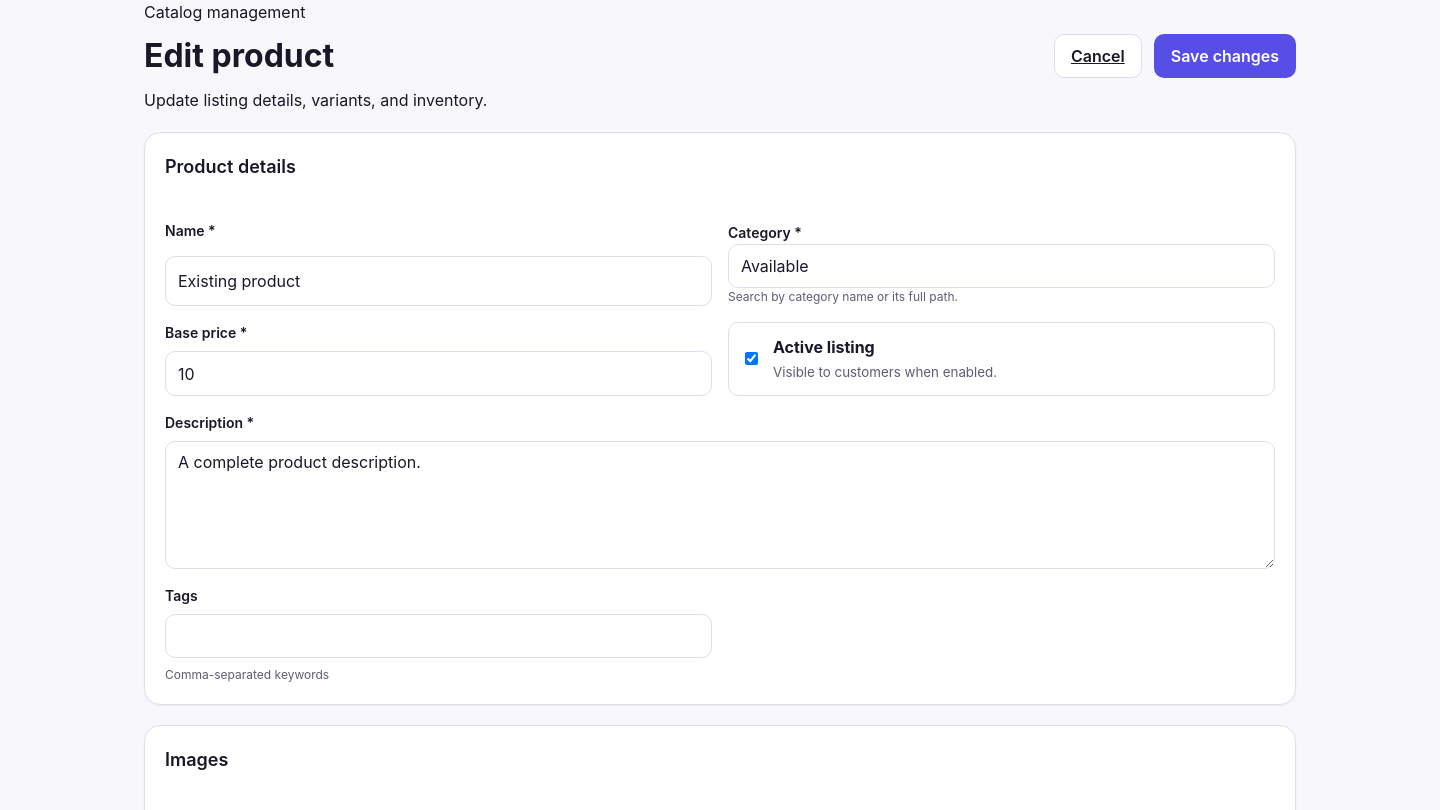
Scenario: product variant inventory editor › prevents duplicate saves before the pending state renders
The width and height of the screenshot is (1440, 810).
Replace the text in the field labelled "Name *" with "Updated product" at (438, 281), box [165,256,712,306]
(page scrolled)
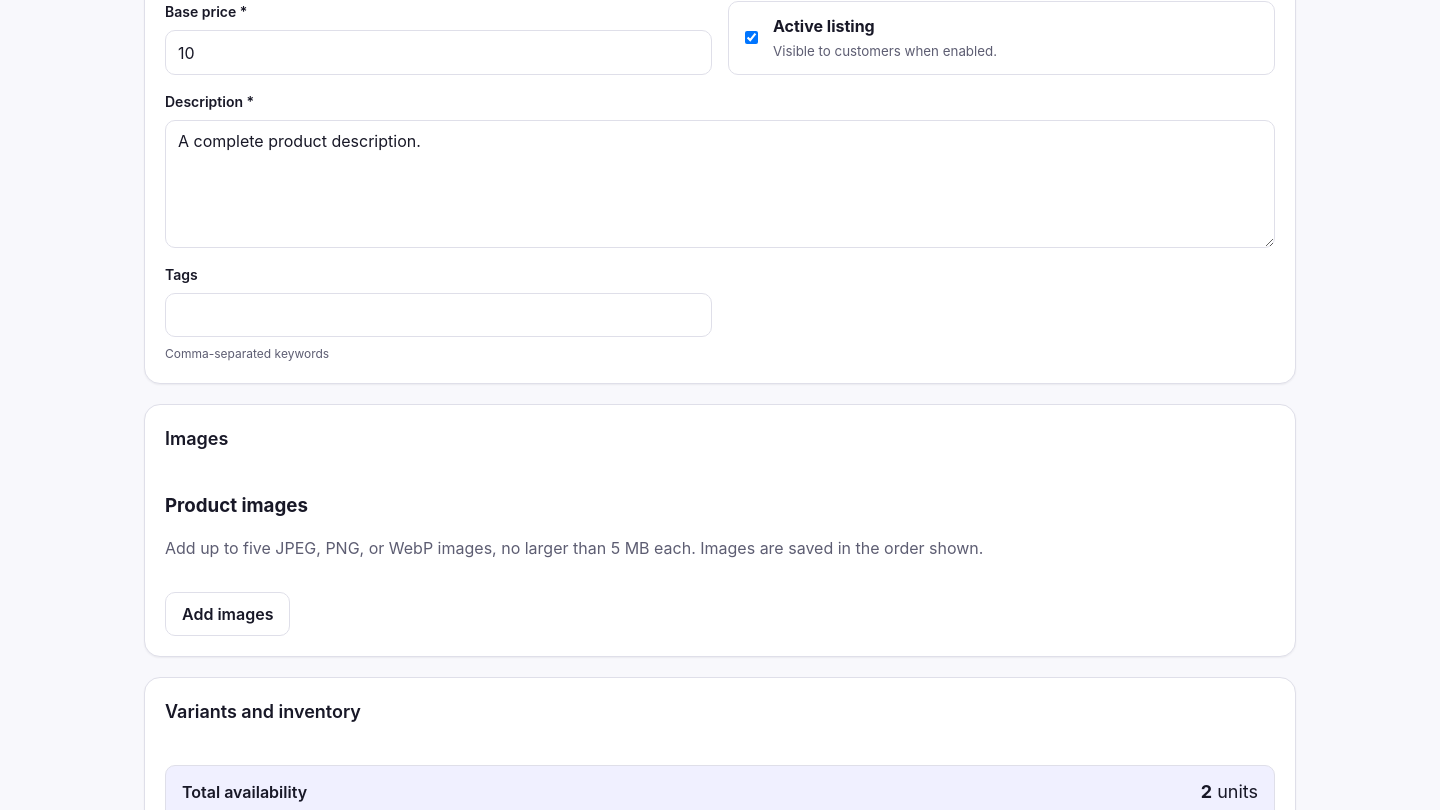
Submit the form named "Save changes"
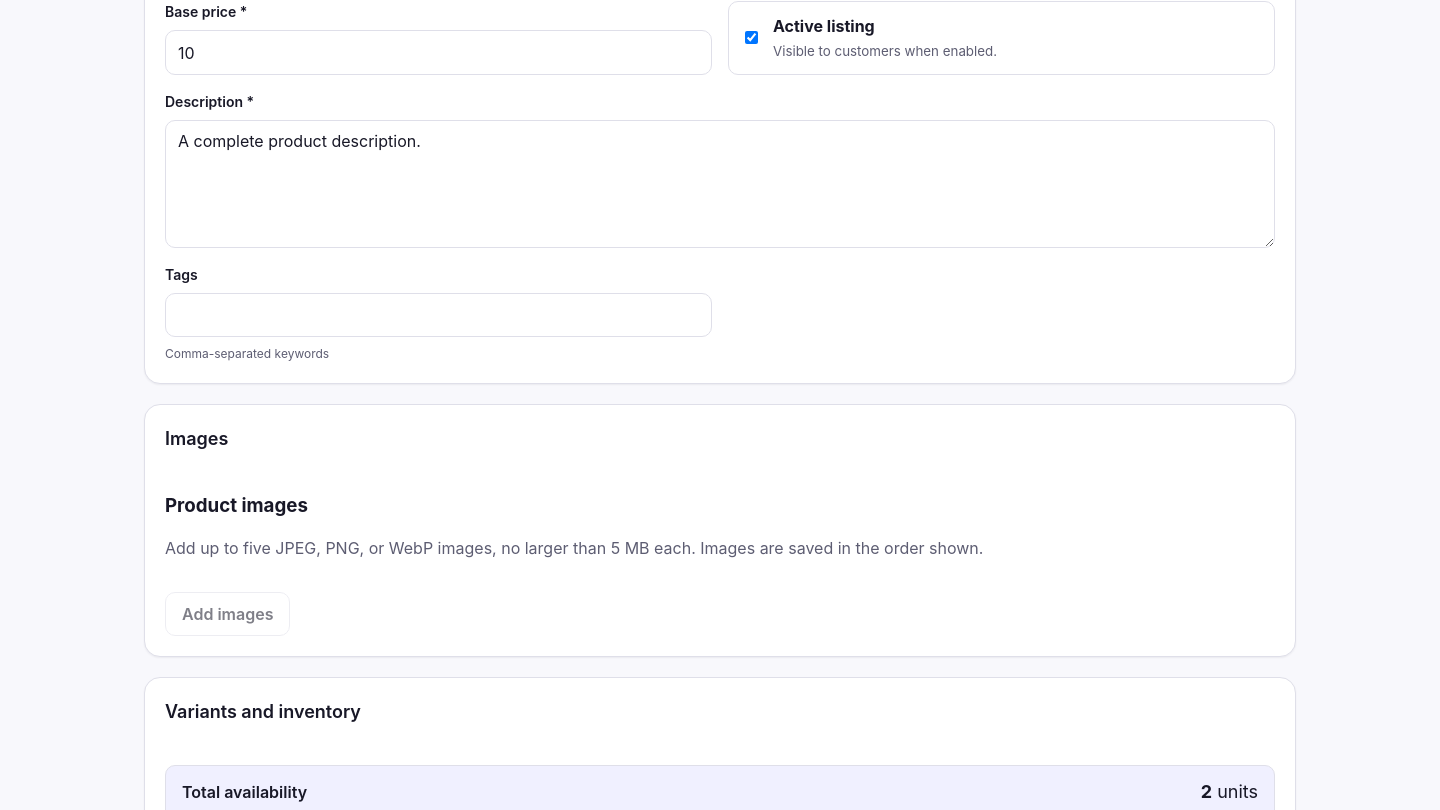
Submit the form named "Save changes"
(page scrolled)
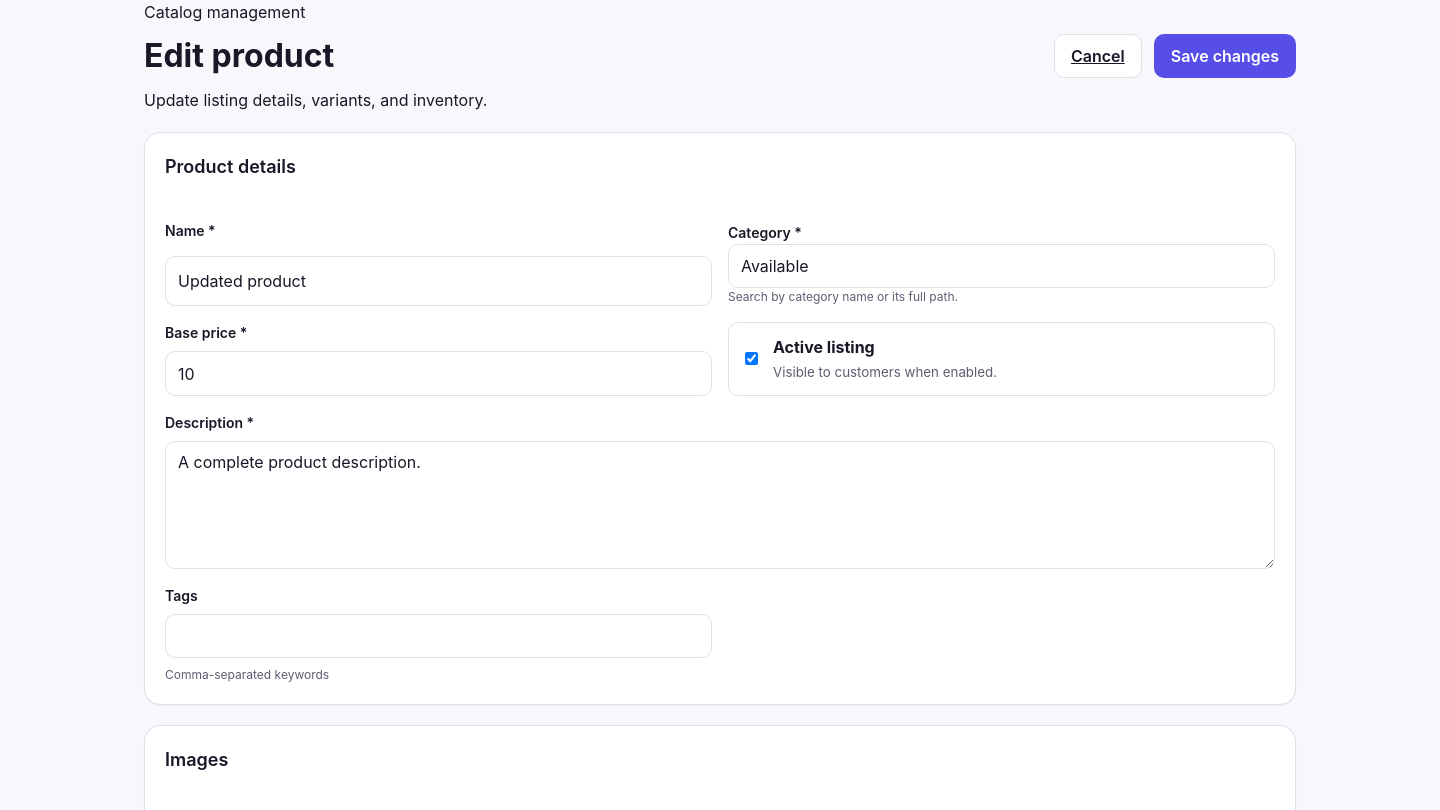
Check: the button "Save changes" is enabled, box [1154,34,1296,78]
